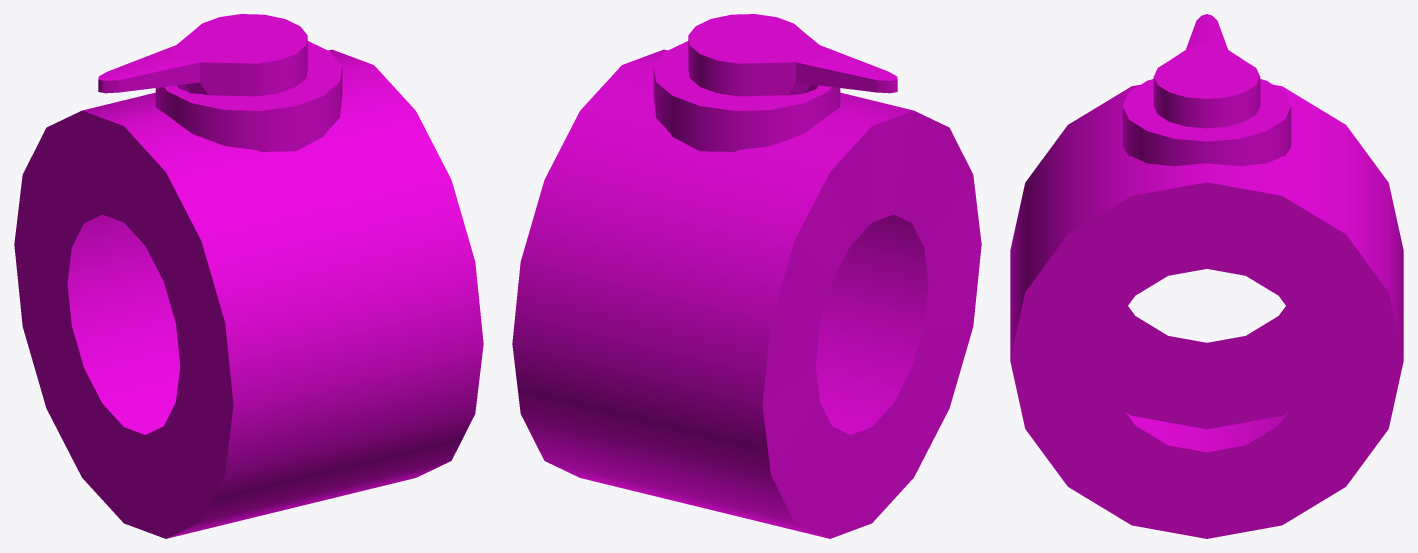
Rendered from SM_Valve_V2.fbx.
3 renders of one model, left to right at view 1: azimuth 30°, elevation 25°; view 2: azimuth 150°, elevation 25°; view 3: azimuth 270°, elevation 25°, orthographic. The views are drawn at different scales.
Parts seen in each view (by area): view 1: pCylinder90; view 2: pCylinder90; view 3: pCylinder90.
Part boxes in pixels (box(x1,y1,x2,y2)): pCylinder90: box(14, 14, 483, 538); pCylinder90: box(512, 14, 981, 538); pCylinder90: box(1010, 14, 1403, 538).
Bounding box in the file's own units: 207 × 325 × 284.
